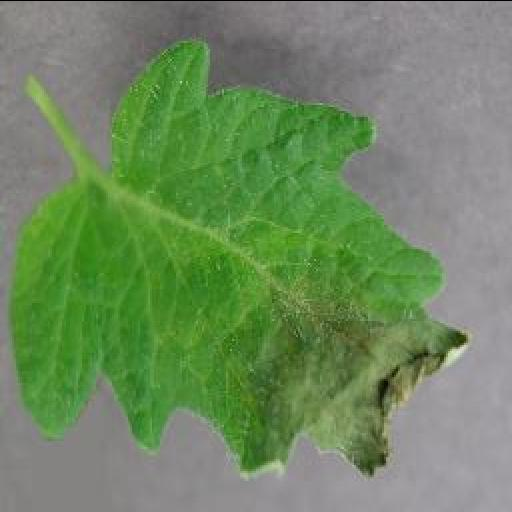disease_tomato: (9, 36, 479, 480)
